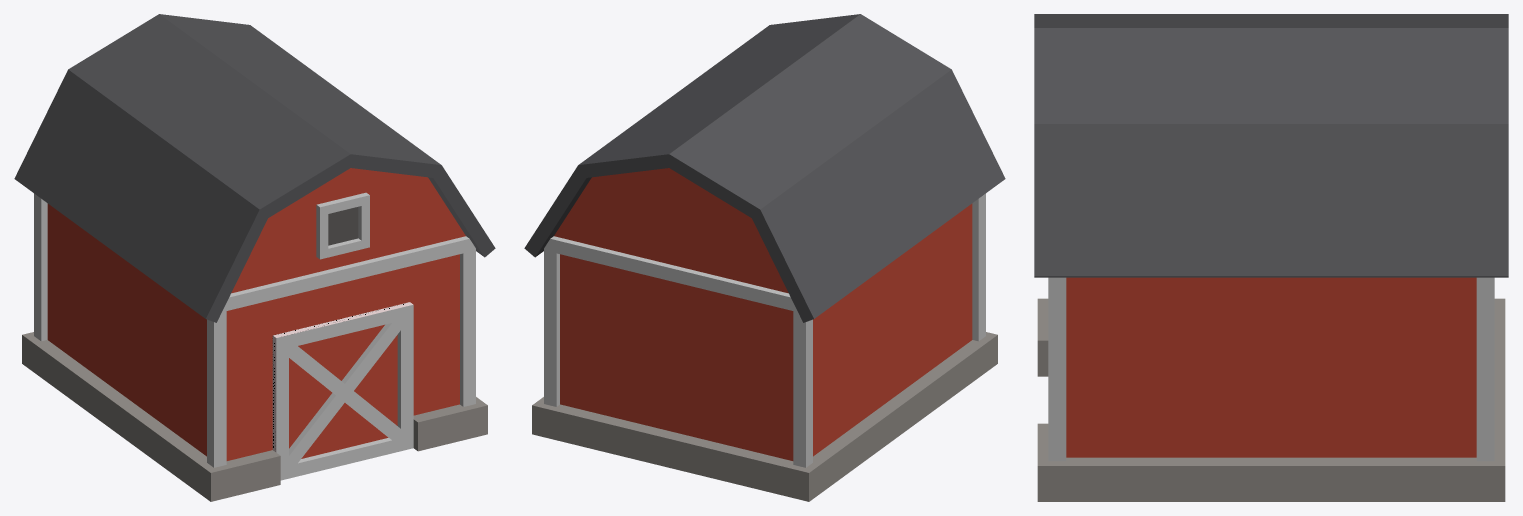
Rendered from Barn.fbx.
3 views of the same model, side by side, from view 1: azimuth 30°, elevation 25°; view 2: azimuth 150°, elevation 25°; view 3: azimuth 270°, elevation 25° (orthographic). The views are drawn at different scales.
Visible parts, largest first — view 1: Barn; view 2: Barn; view 3: Barn.
Boxes of the visible parts, x1,y1,x2,y2 form: Barn: [14, 14, 495, 501]; Barn: [524, 14, 1005, 501]; Barn: [1034, 14, 1508, 501].
Size of the model in its own units: 4.18 by 4.34 by 4.79.
